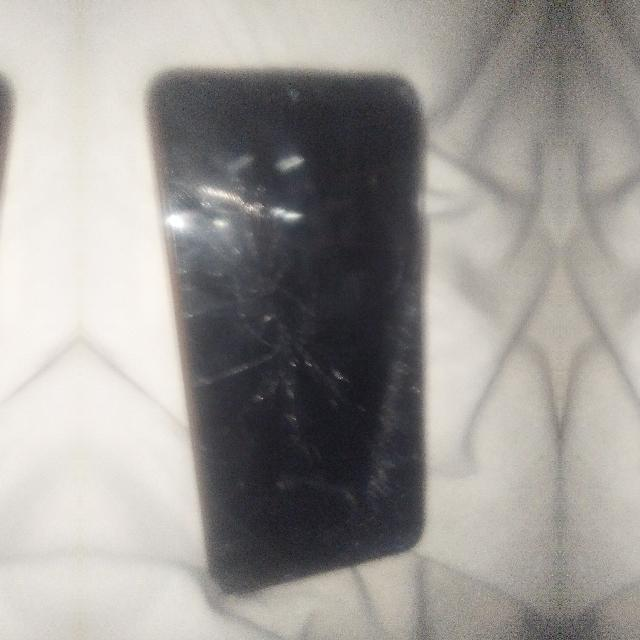phone_screen: (150, 72, 423, 591), (0, 79, 9, 172)
